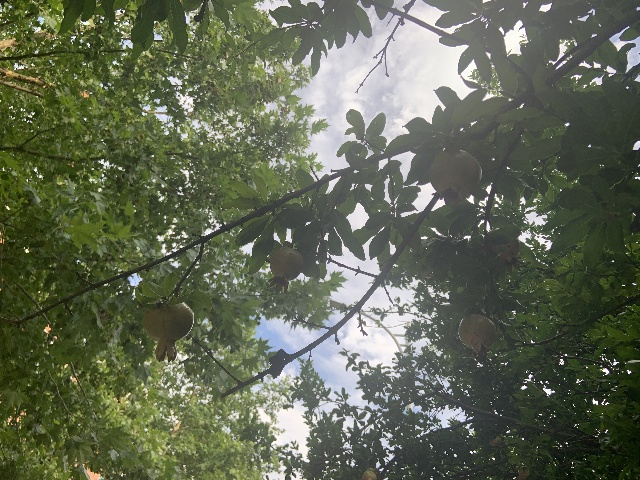mid-growth: (430, 149, 483, 206), (142, 302, 193, 361), (481, 228, 523, 272), (458, 313, 497, 358), (268, 246, 304, 293), (361, 470, 376, 480)
